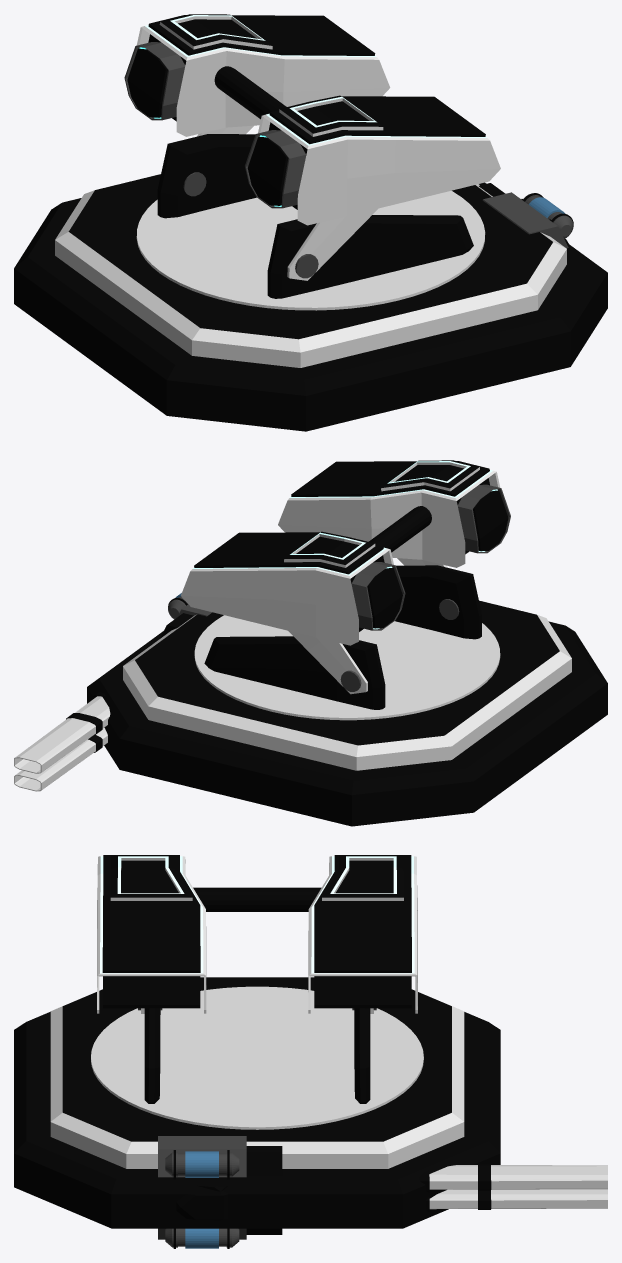
The model's file is Tower-2-Mesh.fbx.
3 renders of one model, top to bottom at view 1: azimuth 30°, elevation 25°; view 2: azimuth 150°, elevation 25°; view 3: azimuth 270°, elevation 25°, orthographic. The views are drawn at different scales.
Visible parts, largest first — view 1: t3v1Rot, t3v1Base, t3v1Gun; view 2: t3v1Rot, t3v1Base, t3v1Gun; view 3: t3v1Rot, t3v1Base, t3v1Gun.
Part boxes in pixels (x1,y1,x2,y2): t3v1Rot: (124, 14, 500, 310); t3v1Base: (14, 174, 607, 431); t3v1Gun: (479, 183, 573, 248); t3v1Rot: (181, 460, 510, 720); t3v1Base: (87, 600, 607, 826); t3v1Gun: (14, 593, 211, 791); t3v1Rot: (91, 855, 423, 1129); t3v1Base: (14, 977, 500, 1228); t3v1Gun: (158, 1136, 607, 1248).
Size of the model in its own units: 2.44 by 1.19 by 2.01.
